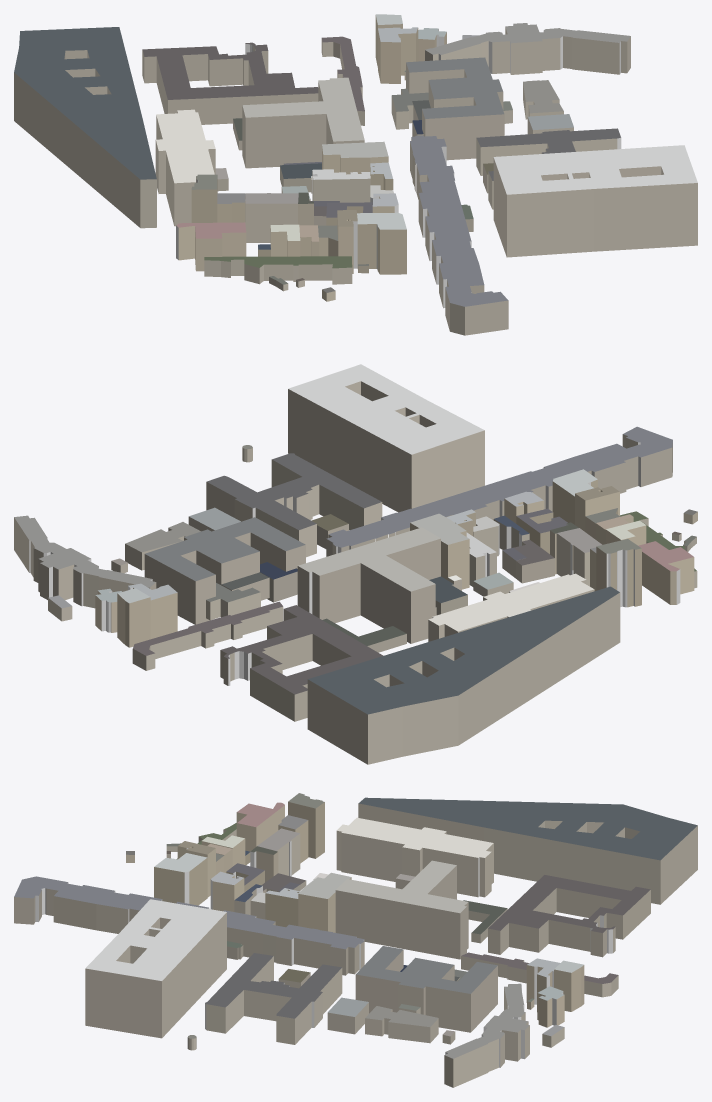
3 views of the same model, one above another, from view 1: azimuth 30°, elevation 25°; view 2: azimuth 150°, elevation 25°; view 3: azimuth 270°, elevation 25° (orthographic). The views are drawn at different scales.
Visible parts, largest first — view 1: tuile; view 2: tuile; view 3: tuile.
Part boxes in pixels (left/top/right/bottom): tuile: left=14, top=14, right=697, bottom=335; tuile: left=14, top=364, right=697, bottom=764; tuile: left=14, top=793, right=697, bottom=1087.
Bounding box in the file's own units: 309 × 39.52 × 365.
